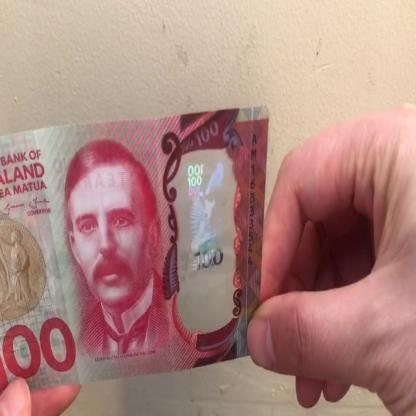100F: (186, 155, 228, 327)
